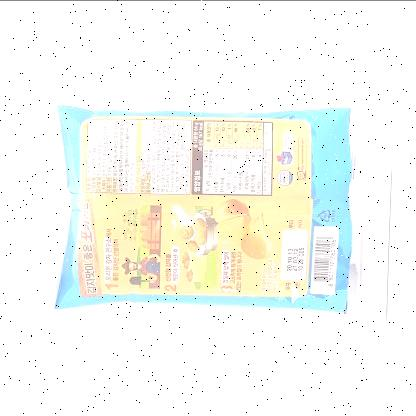Others: (25, 80, 376, 324)
